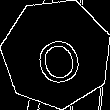O_N: (28, 22, 85, 85)
